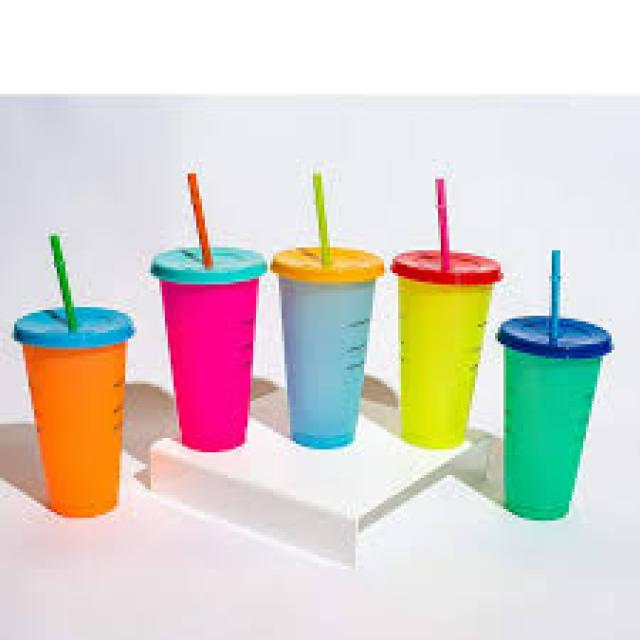cup: (268, 236, 385, 460), (151, 249, 276, 458), (28, 305, 140, 529), (495, 316, 613, 524), (398, 248, 502, 458)
